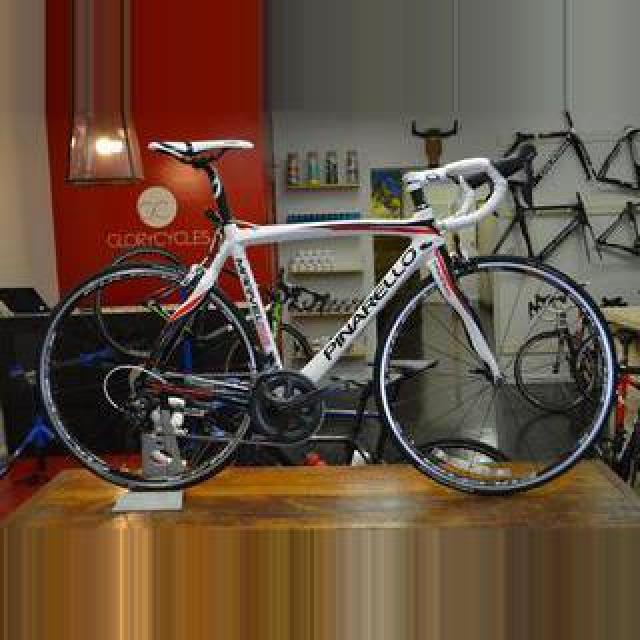Person: (34, 138, 620, 498)
